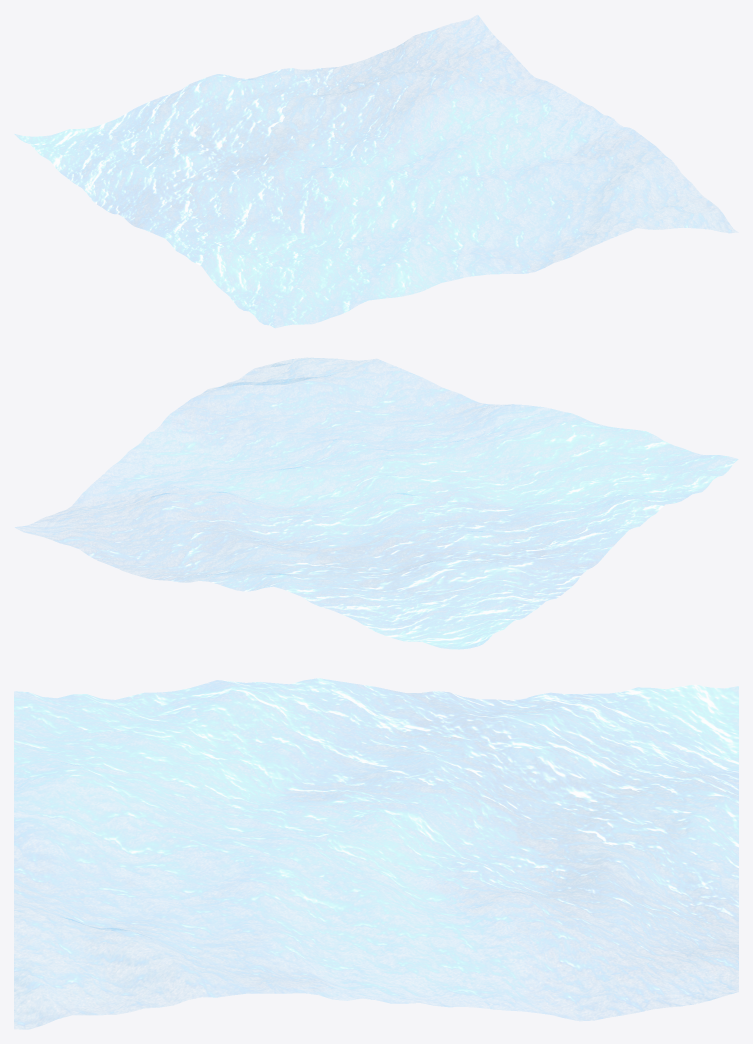
File: ocean_wave_-__wmaya (1).glb
The picture shows the model from 3 angles, top to bottom: view 1: azimuth 30°, elevation 25°; view 2: azimuth 150°, elevation 25°; view 3: azimuth 270°, elevation 25°; orthographic projection. The views are drawn at different scales.
Parts seen in each view (by area): view 1: frame_0; view 2: frame_0; view 3: frame_0.
Part boxes in pixels (x1,y1,x2,y2): frame_0: (15,16,731,327); frame_0: (15,358,737,649); frame_0: (14,678,738,1028).
Size of the model in its own units: 31.23 by 3.57 by 30.46.
1 material, 1 textured.
